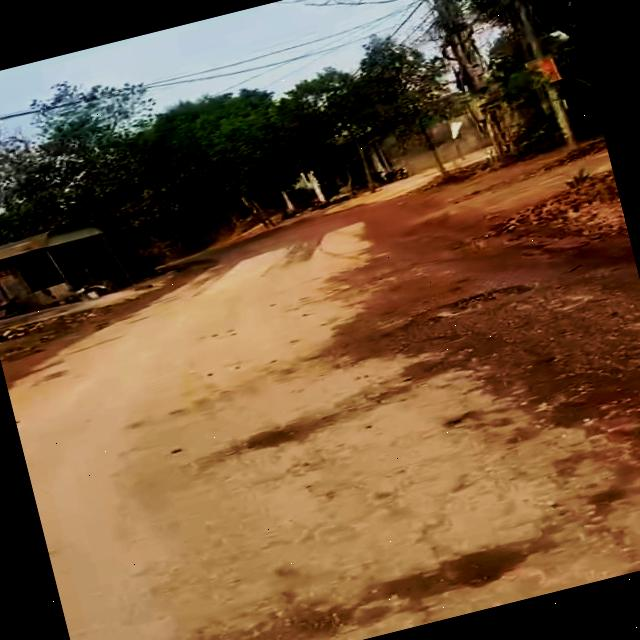pothole: (128, 525, 558, 640), (389, 272, 548, 338), (238, 414, 304, 458)
